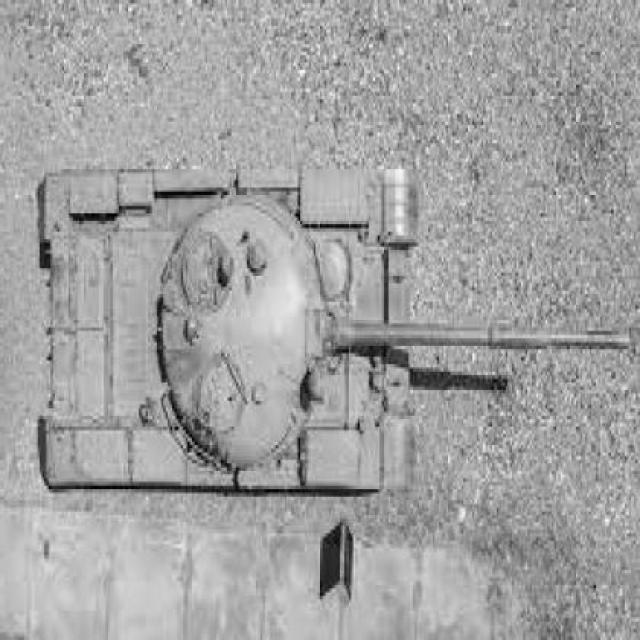tank: (40, 160, 635, 492)
